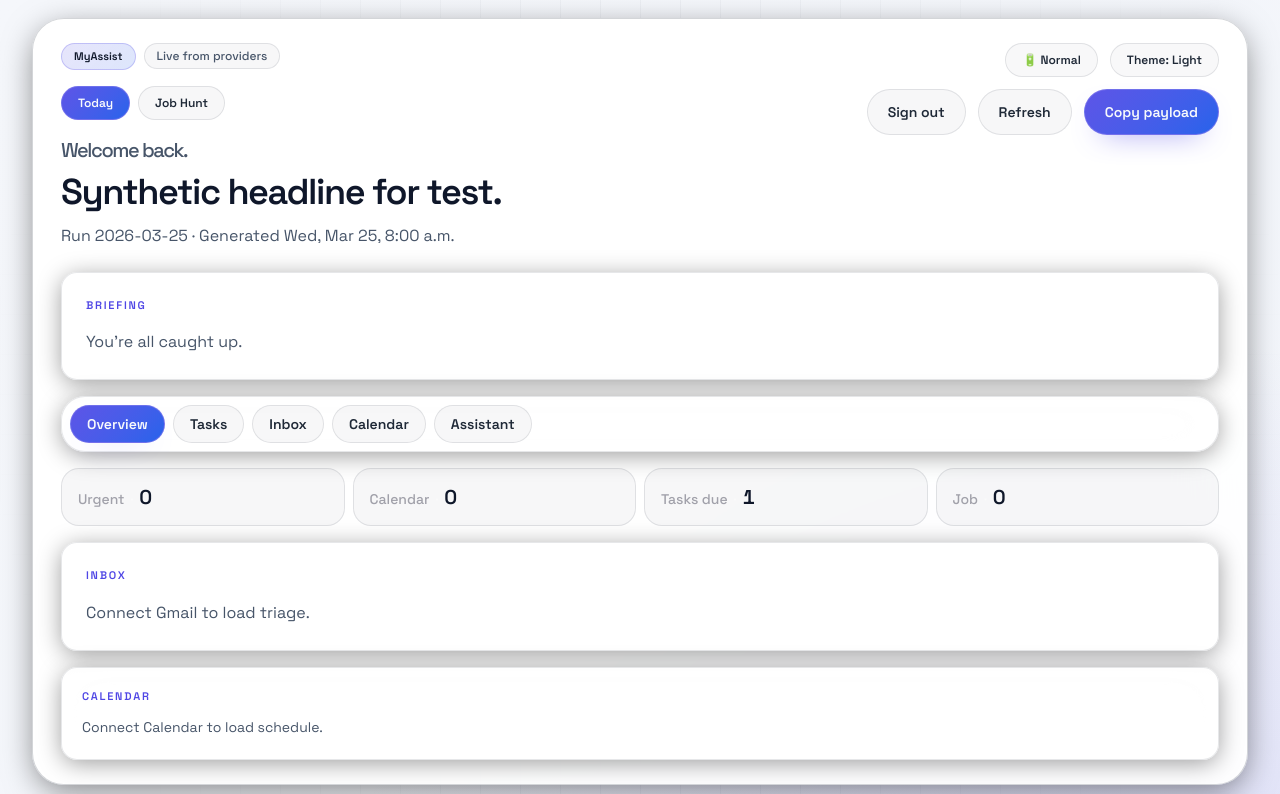
Test: Dashboard › Inbox splits priority vs recent and does not use misleading signal-query empty copy
Click the button "Inbox" at [288, 424], box x1=252 y1=405 x2=324 y2=443
(page scrolled)
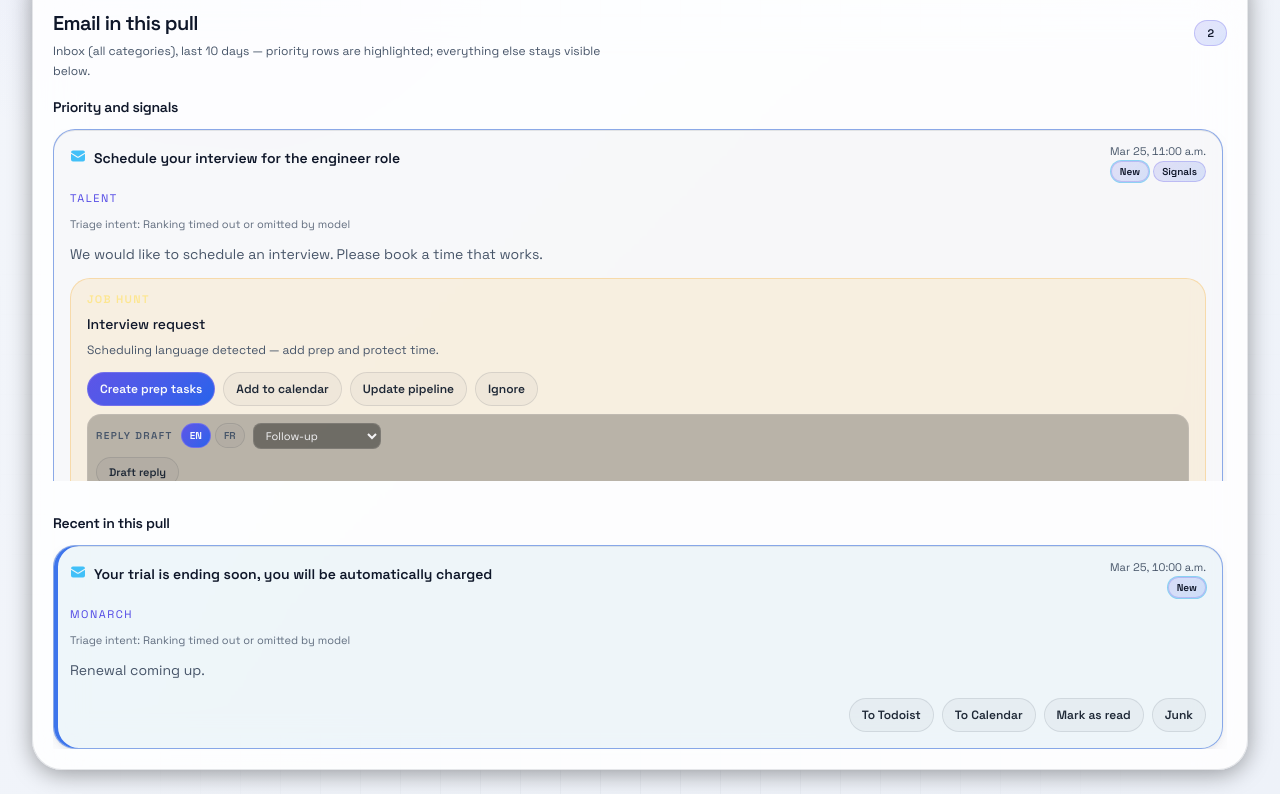
Now the heading "Priority and signals" is shown, box x1=53 y1=98 x2=178 y2=116
Now the heading "Recent in this pull" is shown, box x1=53 y1=514 x2=170 y2=532
Now the text "Your trial is ending soon, you will be automatically charged" is shown, box x1=94 y1=562 x2=492 y2=586
